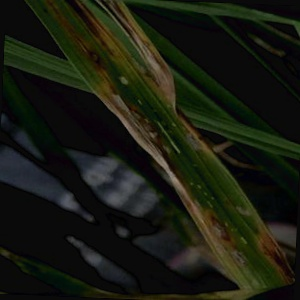Brown_Spot: (202, 214, 239, 242), (227, 246, 256, 265)
